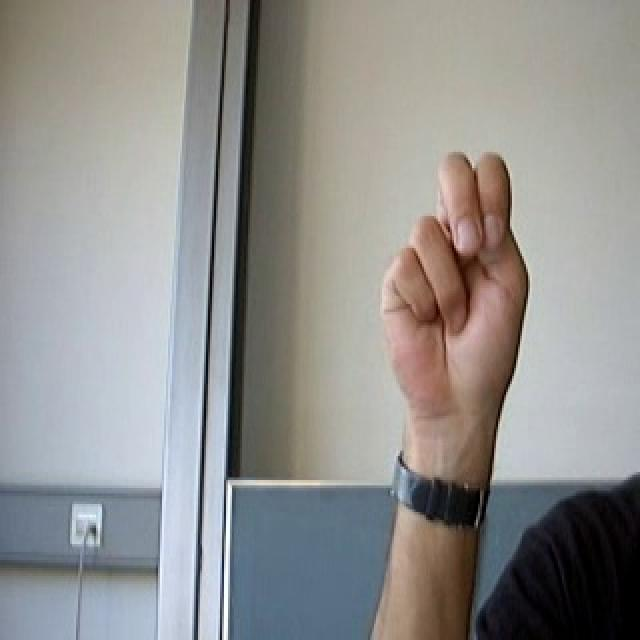N: (340, 130, 565, 455)
